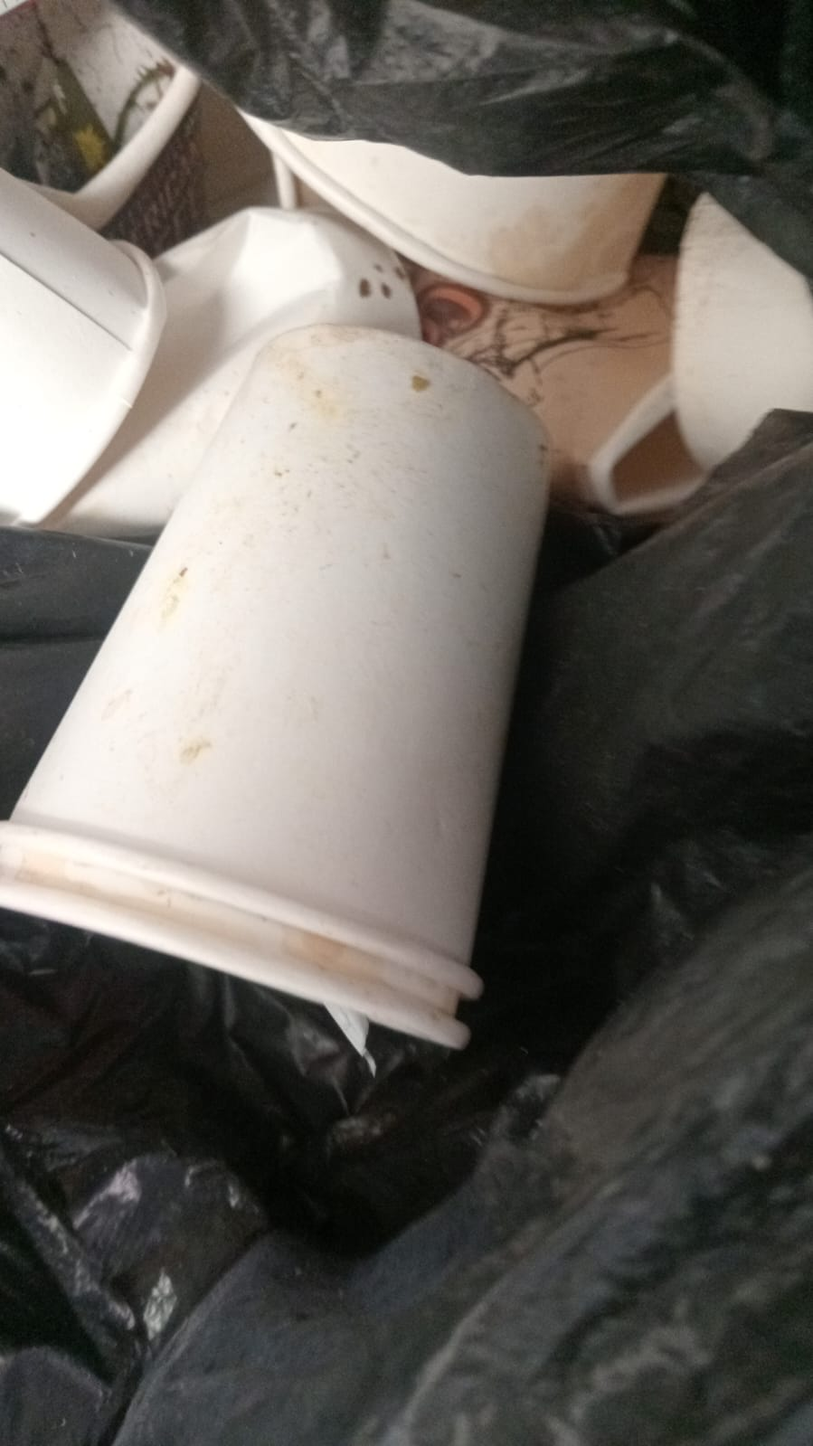Carton: (0, 319, 551, 1059), (264, 117, 668, 305)
